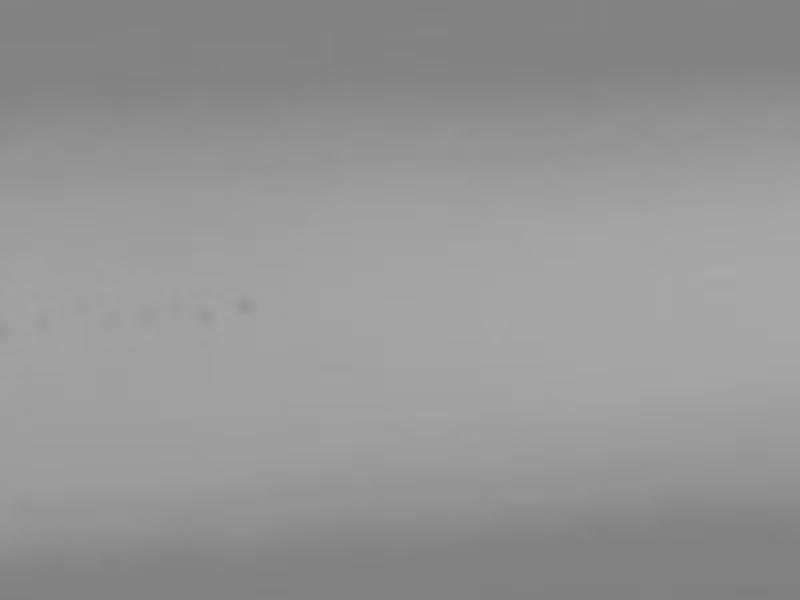defect: (132, 304, 163, 325), (239, 293, 260, 316), (35, 314, 54, 336), (195, 308, 216, 326)
